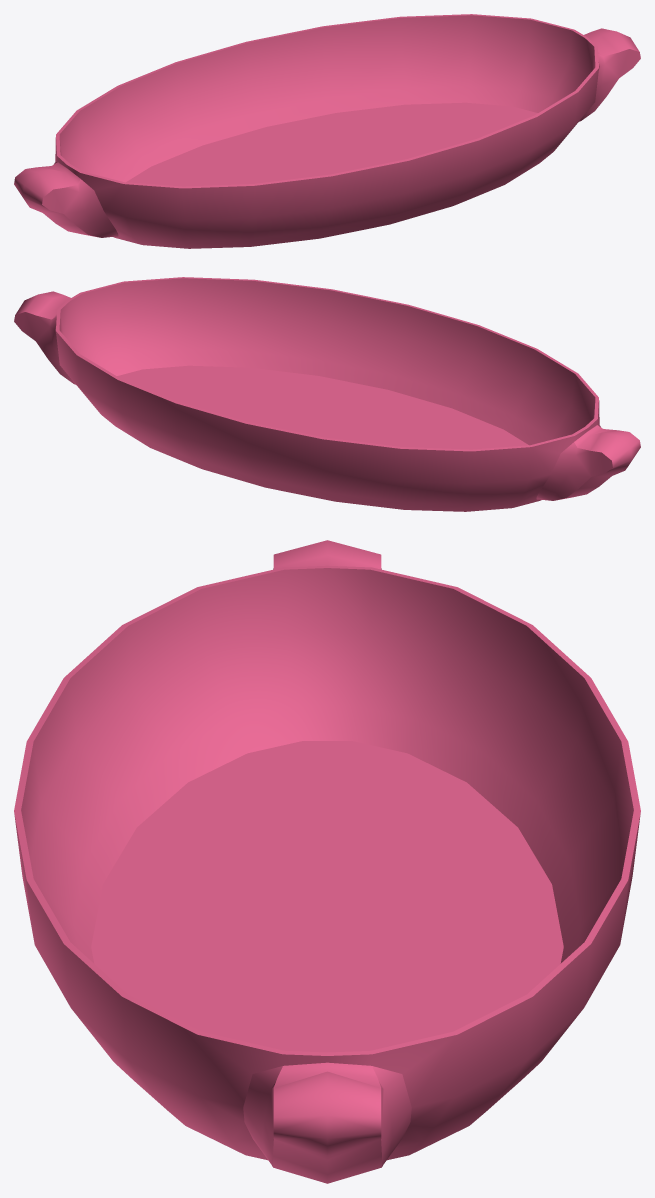
The model's file is Tableware_V6_6.fbx.
The picture shows the model from 3 angles, top to bottom: view 1: azimuth 30°, elevation 25°; view 2: azimuth 150°, elevation 25°; view 3: azimuth 270°, elevation 25°; orthographic projection. The views are drawn at different scales.
Visible parts, largest first — view 1: SM_Tableware_V6_6; view 2: SM_Tableware_V6_6; view 3: SM_Tableware_V6_6.
Part boxes in pixels (x1=…): SM_Tableware_V6_6: x1=14, y1=14, x2=640, y2=248; SM_Tableware_V6_6: x1=14, y1=277, x2=640, y2=511; SM_Tableware_V6_6: x1=14, y1=540, x2=640, y2=1183.
Size of the model in its own units: 38.09 by 4.67 by 17.58.
